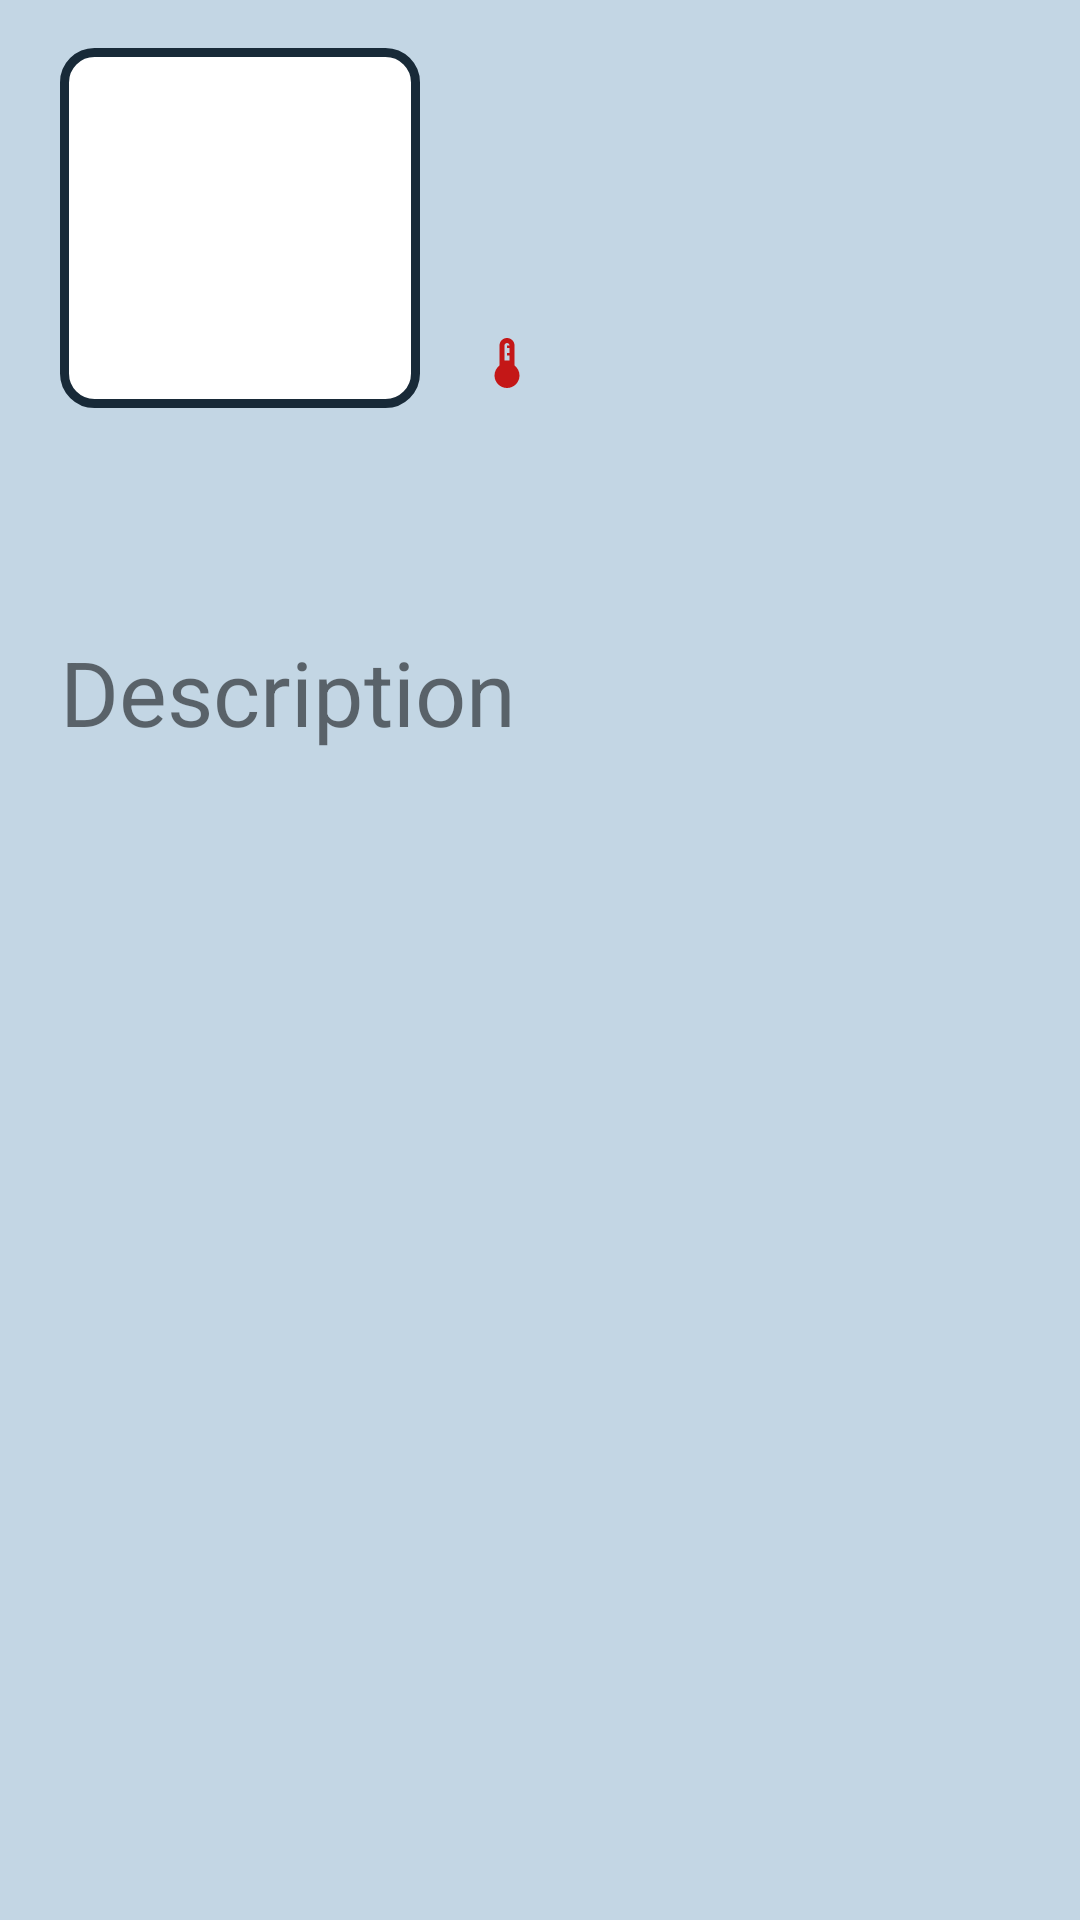

Icons on this 1080 × 1920 Android screen, each with its box as [left=x1, top=y1, right=x2, bottom=y2]:
thermostat: [left=494, top=338, right=520, bottom=388]
